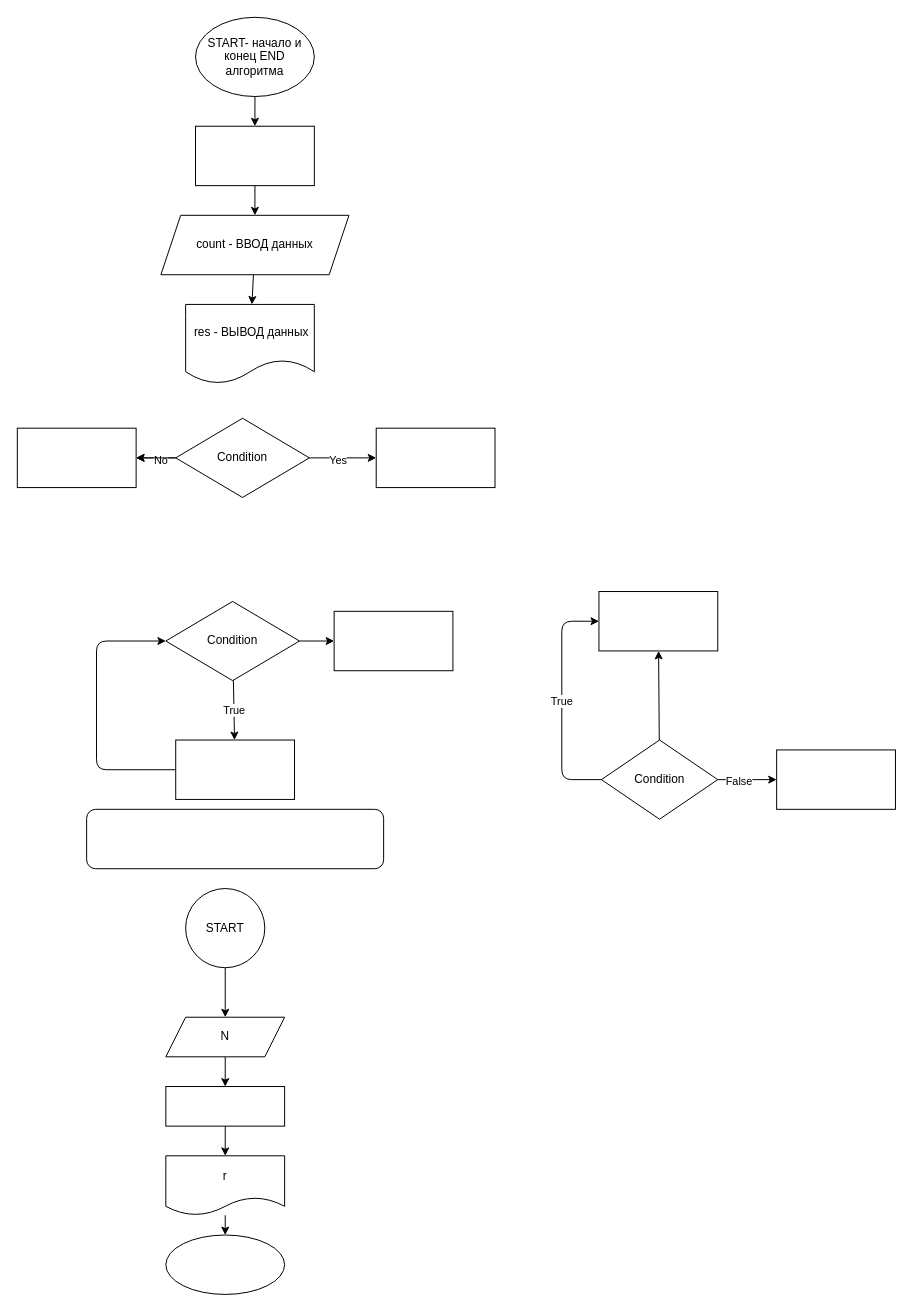
The diagram is 913 pixels wide and 1312 high, and some of its shapes have lost their labels. Here are the shapes that lost their labels. From the top down, the centre of each, then its label:
[254,155]: count = 0 res =1*Sqrt (2) - Действие
[393,640]: Выход
[235,838]: Показать случайное число от 1 до N
[225,1106]: r=random(1,N)
[225,1264]: END
